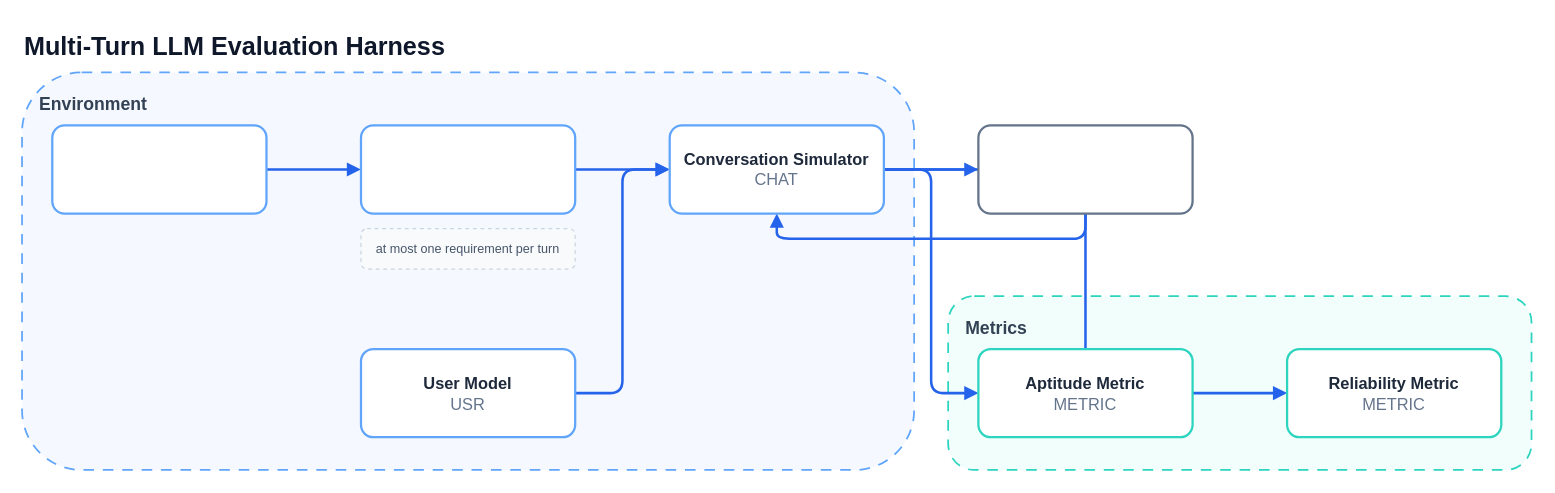
Some shapes in this 1555 by 493 pixel diagram are drawn without their labels. Each missing label, with the centre of its shape:
"LLM Under Test AI" belongs at pixel 1085 169.
"Sharding SPLIT" belongs at pixel 467 169.
"Single-Turn Benchmarks DB" belongs at pixel 159 169.
